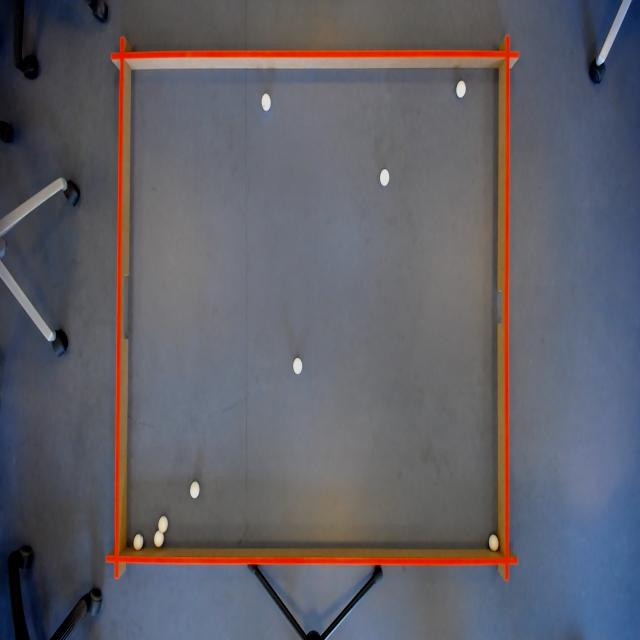white_ball: (259, 91, 273, 115), (454, 77, 468, 101), (291, 355, 304, 379), (488, 530, 500, 554), (379, 166, 391, 190), (132, 531, 145, 553), (157, 514, 170, 534), (188, 480, 200, 501), (152, 530, 165, 548)
